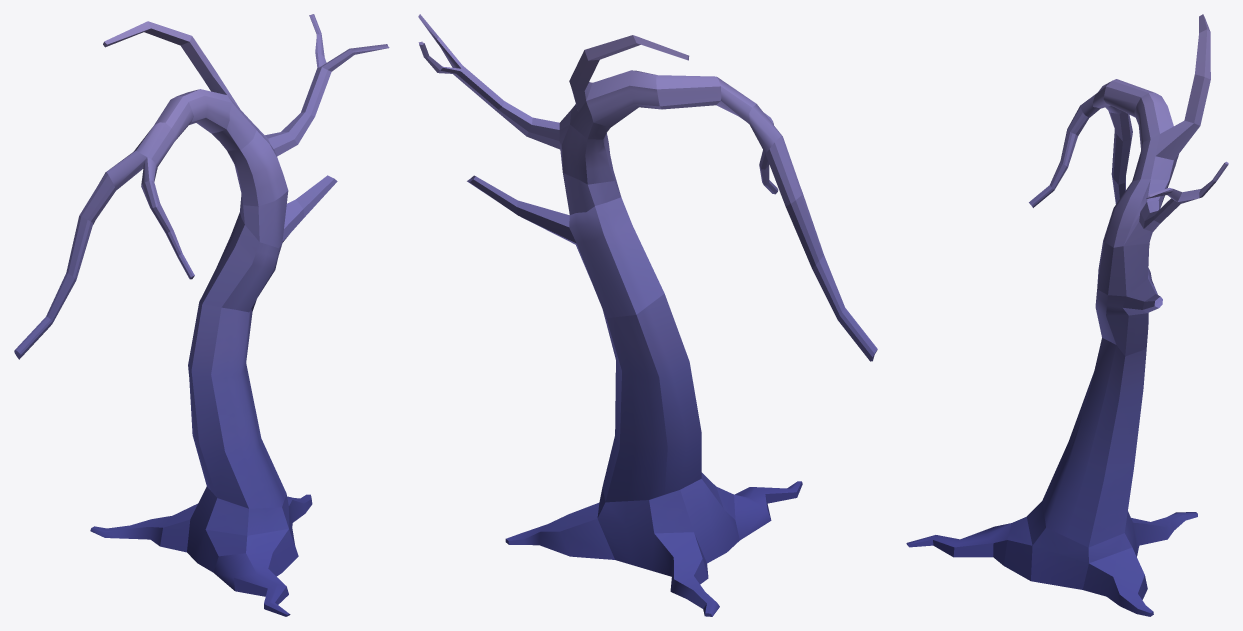
File: tree_02.fbx
3 renders of one model, left to right at view 1: azimuth 30°, elevation 25°; view 2: azimuth 150°, elevation 25°; view 3: azimuth 270°, elevation 25°, orthographic. The views are drawn at different scales.
Parts seen in each view (by area): view 1: tree_02; view 2: tree_02; view 3: tree_02.
Part boxes in pixels (x1=…): tree_02: x1=14, y1=14, x2=389, y2=616; tree_02: x1=418, y1=14, x2=877, y2=616; tree_02: x1=906, y1=14, x2=1228, y2=616.
Size of the model in its own units: 331 by 403 by 228.
